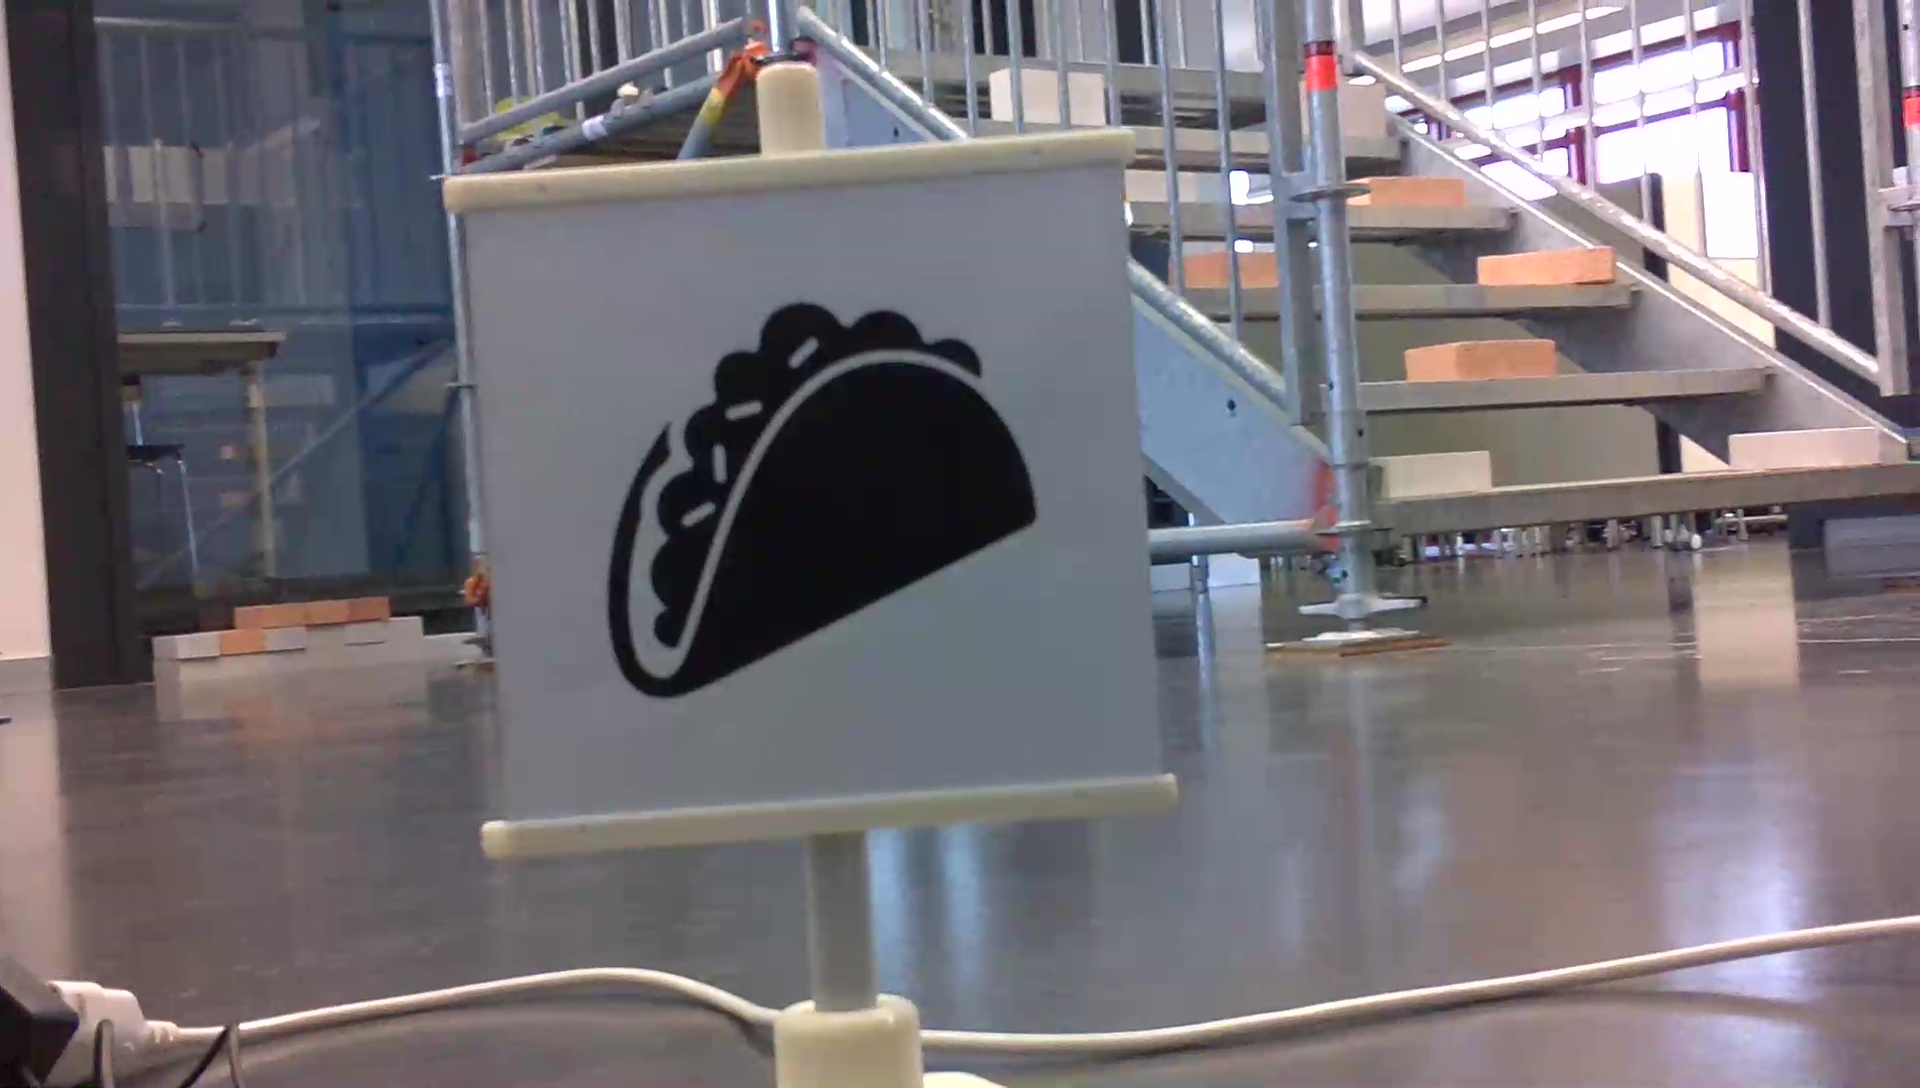brick: (1727, 430, 1875, 468), (1408, 340, 1552, 376), (1385, 450, 1490, 491), (1476, 249, 1610, 281), (1354, 175, 1462, 208), (1338, 83, 1385, 137)
edge: (1382, 462, 1917, 533), (1357, 361, 1778, 404)
taco: (589, 291, 1047, 710)
